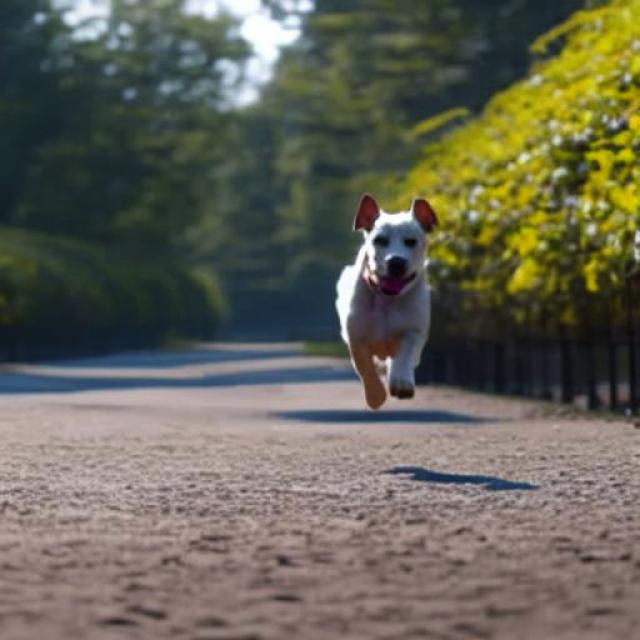Dog: (336, 193, 440, 411)
